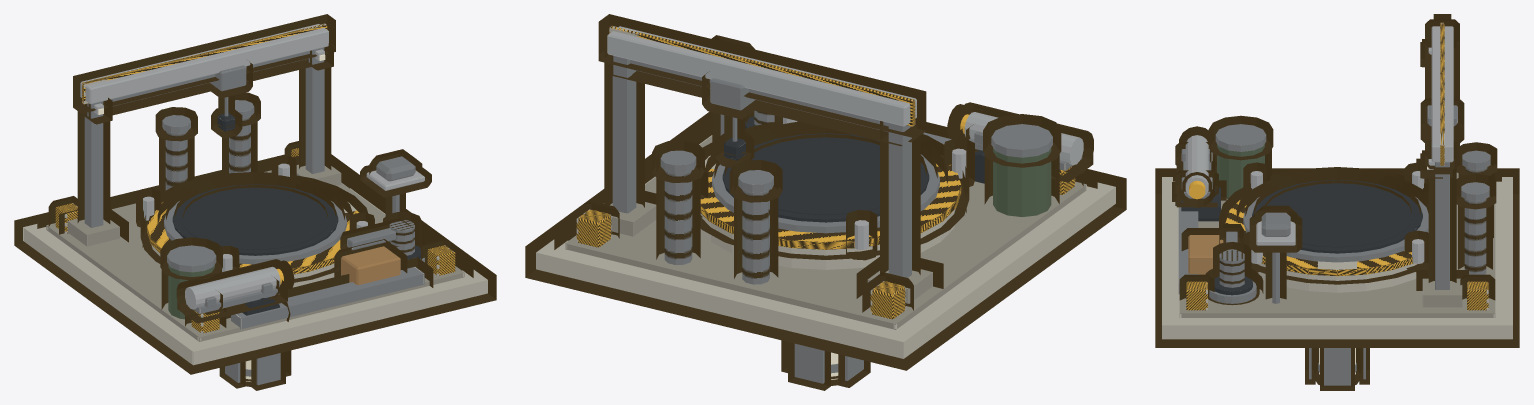
File: missileSilo.glb
3 views of the same model, side by side, from view 1: azimuth 30°, elevation 25°; view 2: azimuth 150°, elevation 25°; view 3: azimuth 270°, elevation 25° (orthographic). The views are drawn at different scales.
Visible parts, largest first — view 1: MissileSilo, Lv1, Lv2, Silo_Missile; view 2: MissileSilo, Lv1, Lv2, Silo_Missile; view 3: MissileSilo, Lv1, Lv2, Silo_Missile.
Boxes of the visible parts, box(x1,y1,x2,y2) form: MissileSilo: box(14, 141, 496, 374); Lv1: box(59, 14, 407, 321); Lv2: box(84, 43, 431, 323); Silo_Missile: box(219, 350, 291, 390); MissileSilo: box(525, 110, 1126, 370); Lv1: box(589, 14, 1061, 303); Lv2: box(632, 35, 1093, 214); Silo_Missile: box(781, 340, 870, 390); MissileSilo: box(1155, 162, 1519, 347); Lv1: box(1175, 14, 1497, 307); Lv2: box(1175, 39, 1442, 305); Silo_Missile: box(1305, 348, 1369, 390).
Size of the model in its own units: 8.3 by 7.59 by 8.3.
3 materials, 1 textured.
